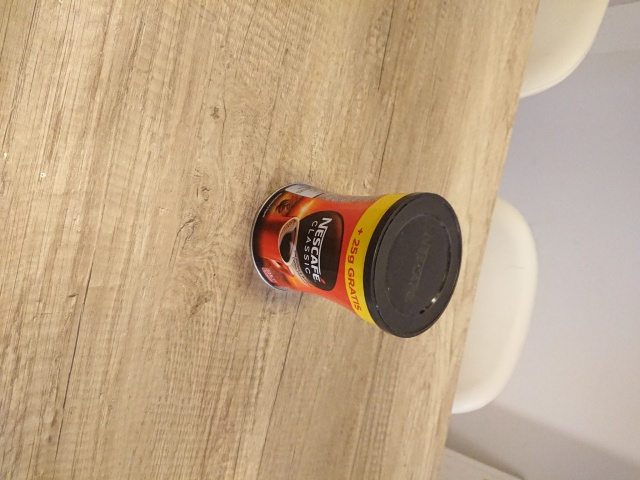Nescafe Classic 225g: (246, 180, 465, 341)
